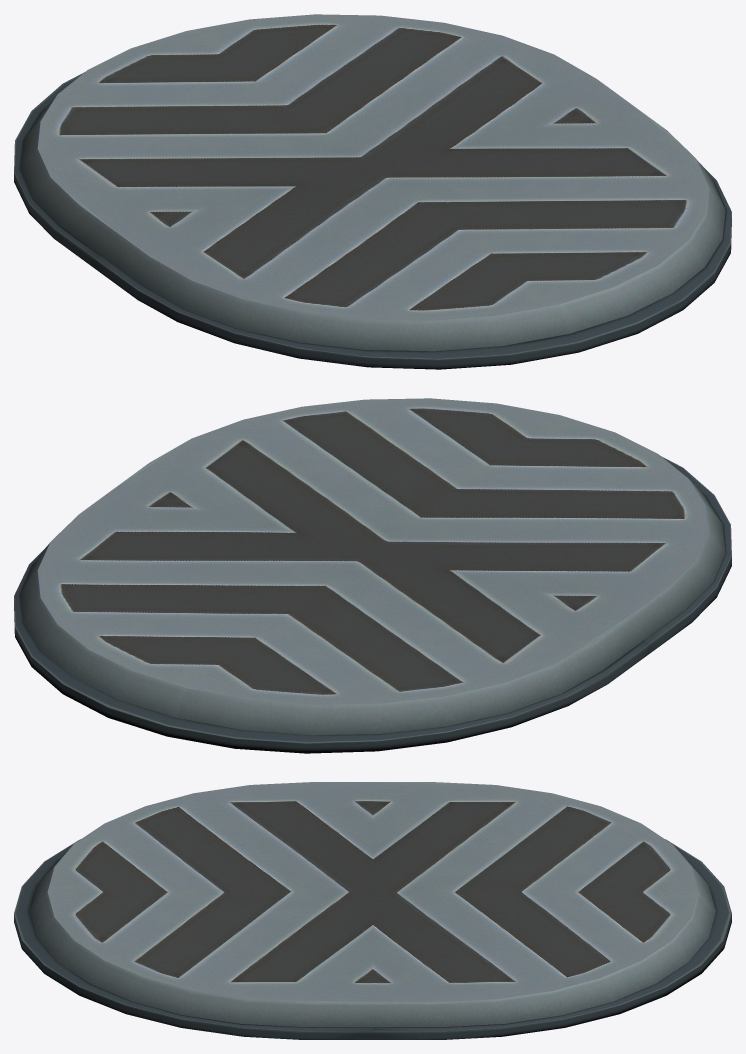
Rendered from jumppad1_d.obj.
3 renders of one model, top to bottom at view 1: azimuth 30°, elevation 25°; view 2: azimuth 150°, elevation 25°; view 3: azimuth 270°, elevation 25°, orthographic. The views are drawn at different scales.
Parts seen in each view (by area): view 1: jumppad1_d:Mesh_0; view 2: jumppad1_d:Mesh_0; view 3: jumppad1_d:Mesh_0.
Part boxes in pixels (x1,y1,x2,y2): jumppad1_d:Mesh_0: (14, 14, 731, 369); jumppad1_d:Mesh_0: (14, 398, 731, 753); jumppad1_d:Mesh_0: (14, 782, 731, 1039).
Bounding box in the file's own units: 83.52 × 4.94 × 108.
